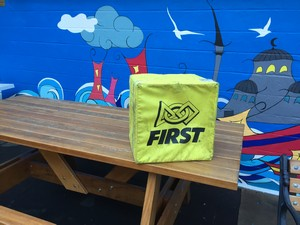cube: (130, 74, 218, 164)
